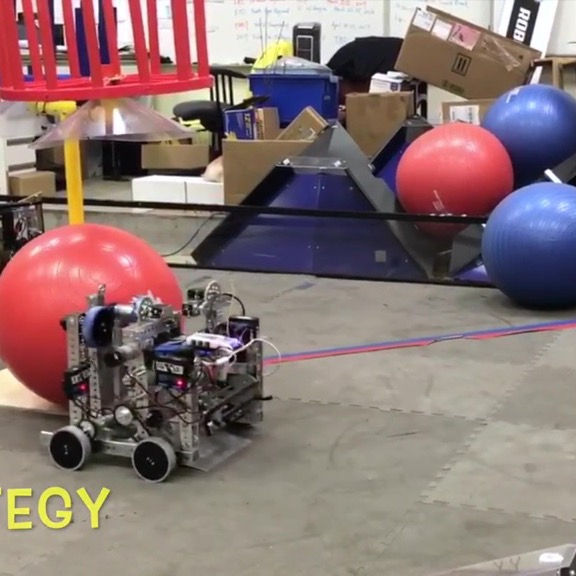robot: (46, 280, 275, 486)
yogaball: (3, 222, 188, 406), (396, 119, 510, 231), (484, 179, 576, 314), (492, 82, 576, 173)
